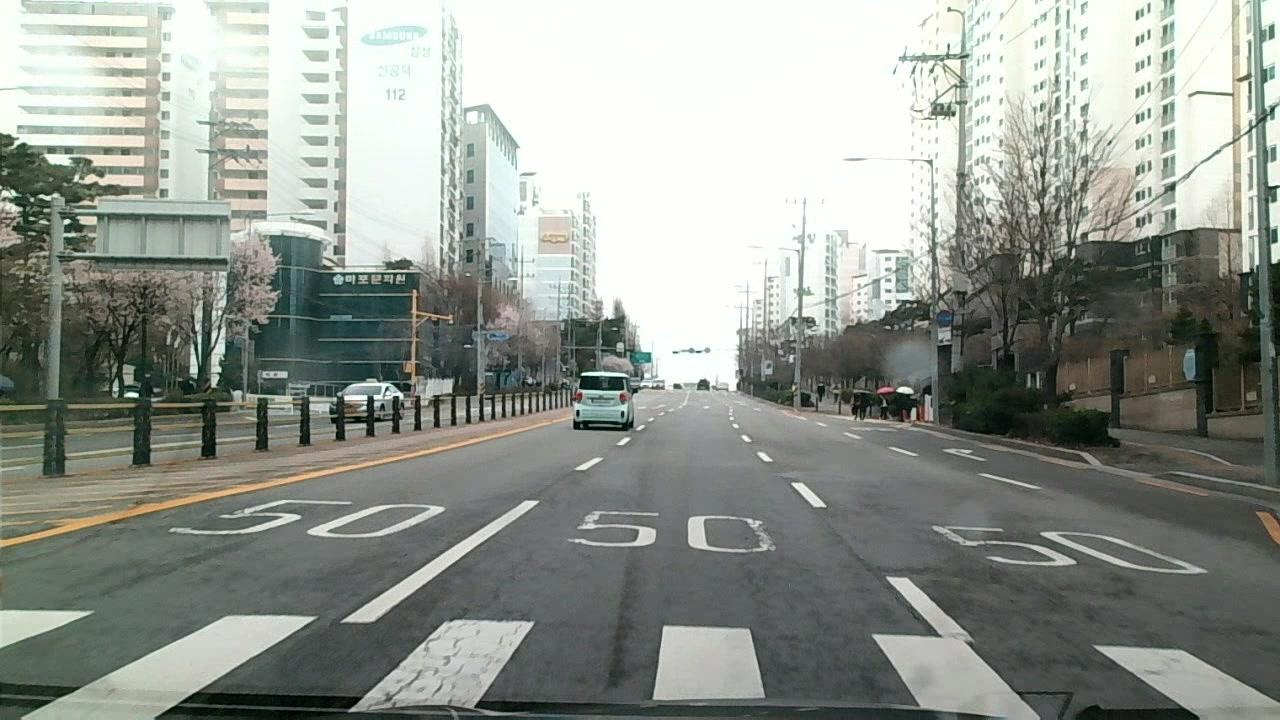vcrack: (829, 526, 932, 627), (607, 552, 636, 691)
